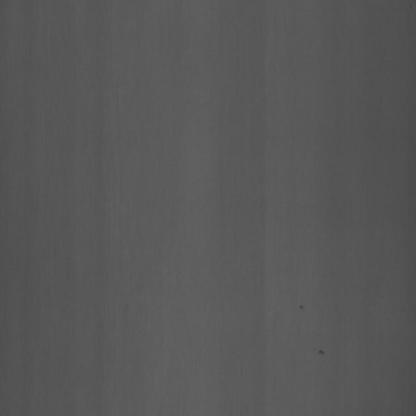inclusion: (298, 296, 306, 316), (318, 345, 324, 362)
